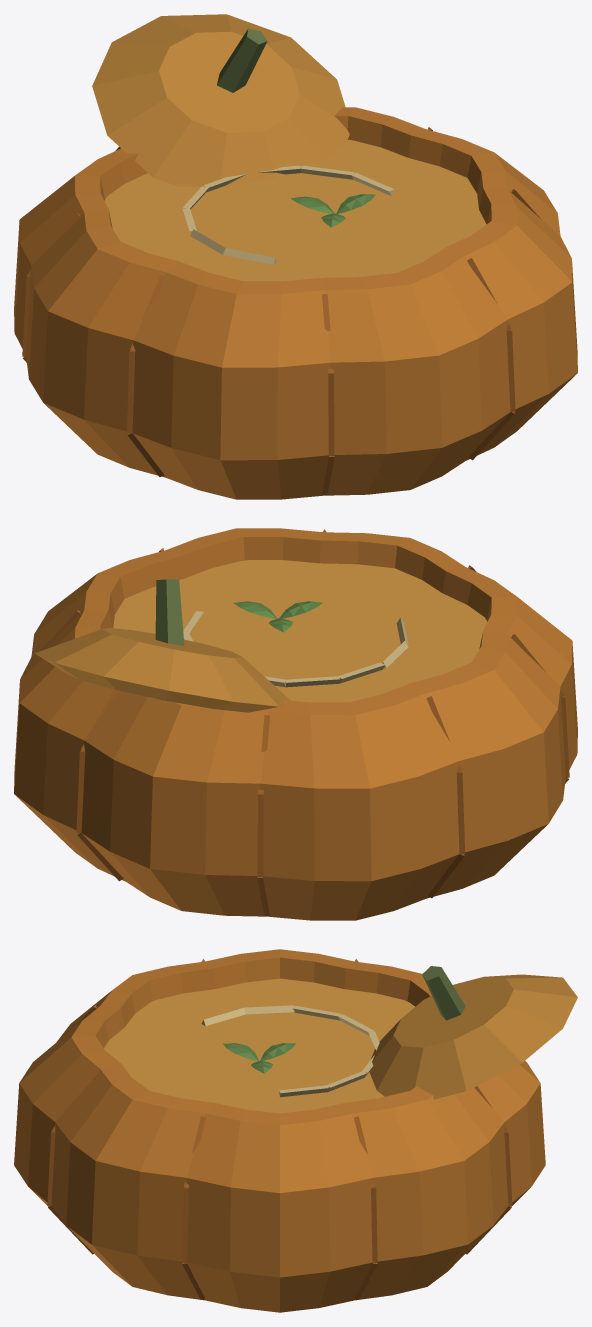
Rendered from soup_pumpkin.glb.
The picture shows the model from 3 angles, top to bottom: view 1: azimuth 30°, elevation 25°; view 2: azimuth 150°, elevation 25°; view 3: azimuth 270°, elevation 25°; orthographic projection. The views are drawn at different scales.
Visible parts, largest first — view 1: food; view 2: food; view 3: food.
Part boxes in pixels (left/top/right/bottom): food: left=14, top=14, right=577, bottom=499; food: left=14, top=528, right=577, bottom=920; food: left=14, top=949, right=577, bottom=1312.
Bounding box in the file's own units: 0.5278 × 0.327 × 0.5598.
